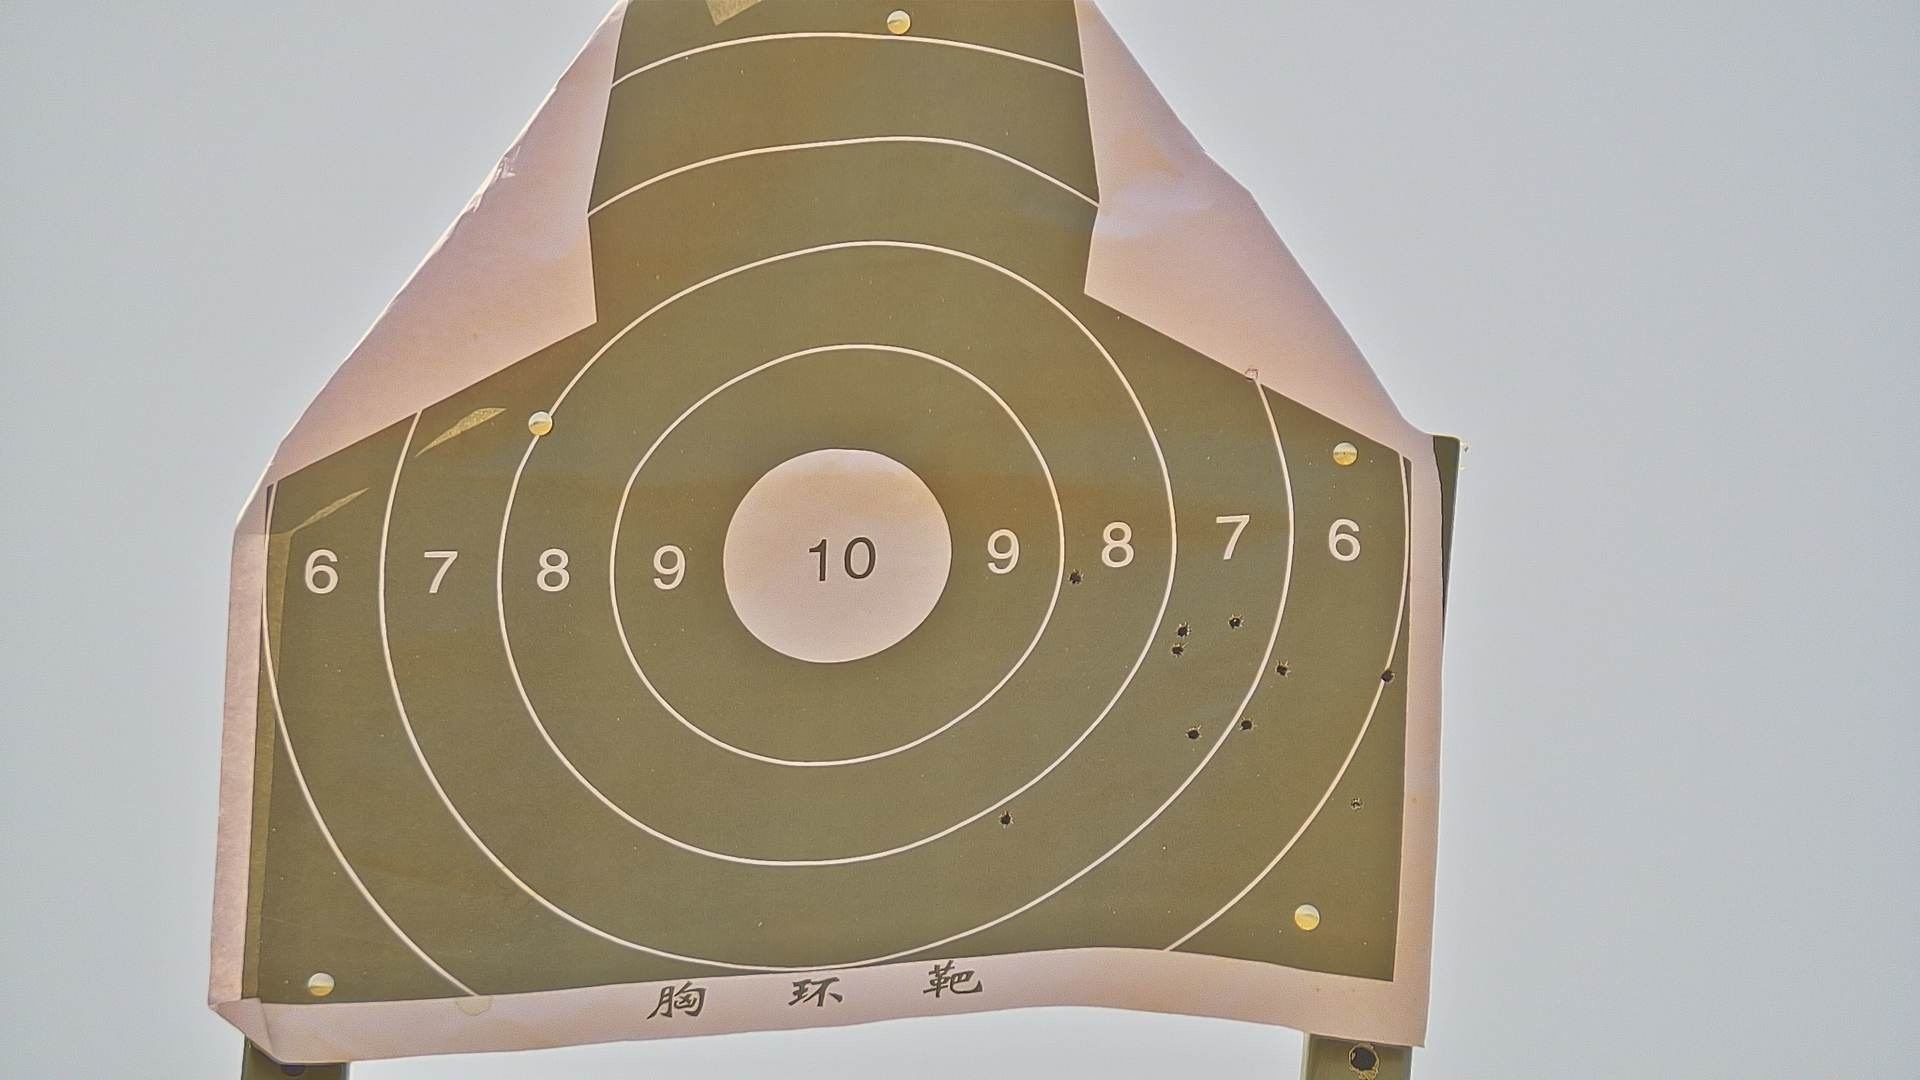hole: (998, 812, 1015, 829), (1240, 716, 1255, 732), (1176, 622, 1191, 640), (1379, 669, 1395, 683), (1230, 613, 1244, 630), (1276, 662, 1291, 676), (1185, 727, 1201, 740), (1171, 642, 1184, 657), (1350, 796, 1364, 811), (1069, 568, 1081, 583)
kernel: (832, 559, 840, 568)
target: (244, 3, 1400, 992)
ten: (723, 444, 948, 665)
